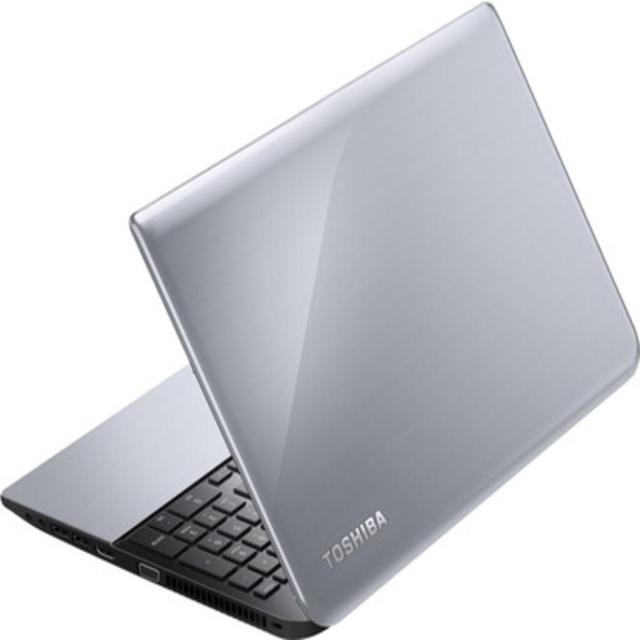laptop: (5, 12, 636, 630)
